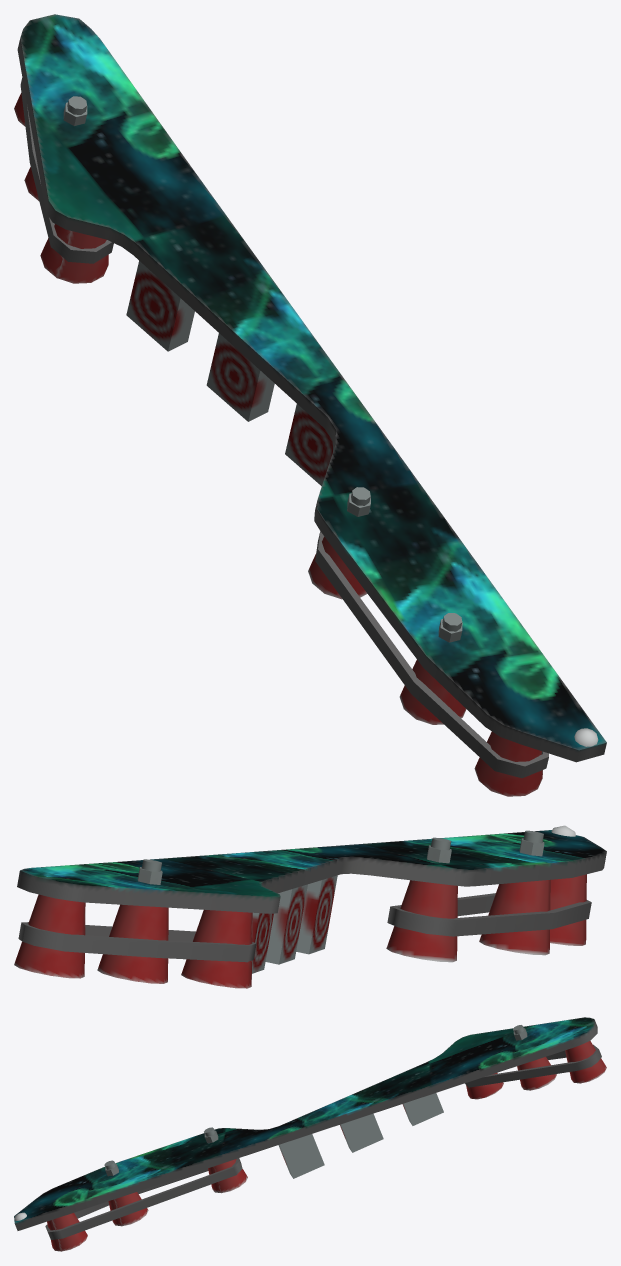
The model's file is LargeBase.glb.
The picture shows the model from 3 angles, top to bottom: view 1: azimuth 30°, elevation 25°; view 2: azimuth 150°, elevation 25°; view 3: azimuth 270°, elevation 25°; orthographic projection. The views are drawn at different scales.
Parts seen in each view (by area): view 1: LargeBumper_Base; view 2: LargeBumper_Base; view 3: LargeBumper_Base.
Boxes of the visible parts, box(x1,y1,x2,y2) form: LargeBumper_Base: box(14, 14, 606, 796); LargeBumper_Base: box(14, 825, 606, 988); LargeBumper_Base: box(14, 1017, 606, 1251).
Bounding box in the file's own units: 0.0755 × 0.2081 × 0.4905.
1 material, 1 textured.
